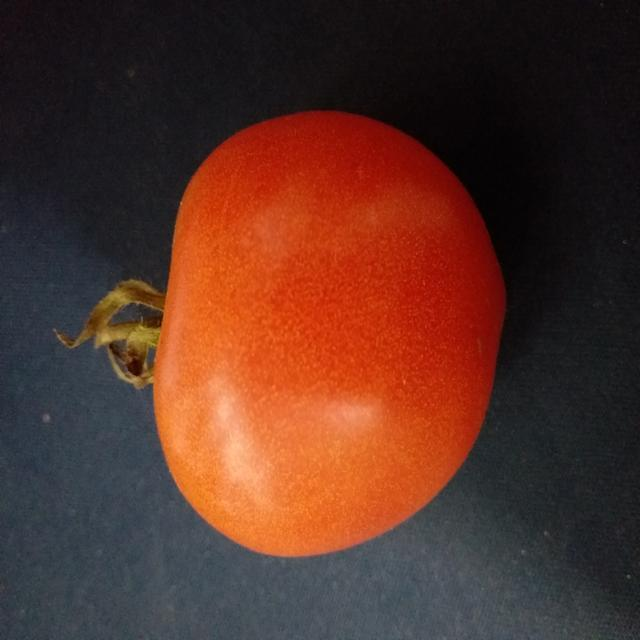tomato: (128, 71, 524, 584)
